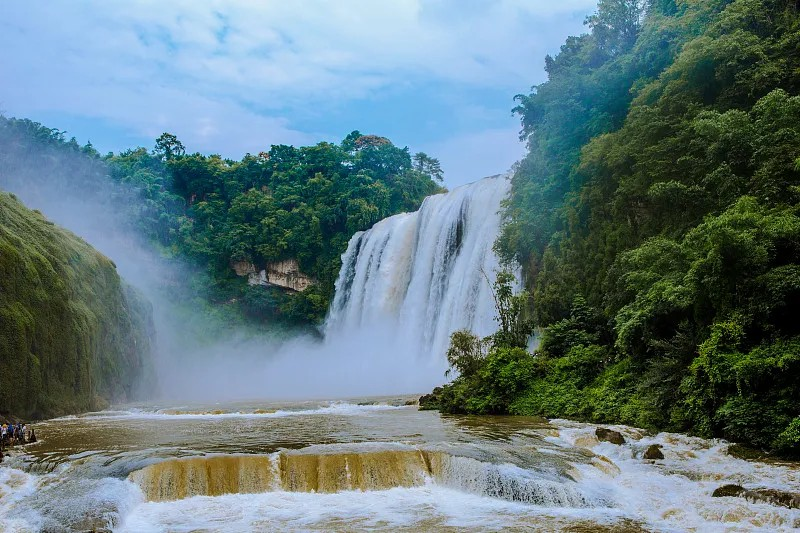Huangguoshu: (329, 173, 526, 395)
